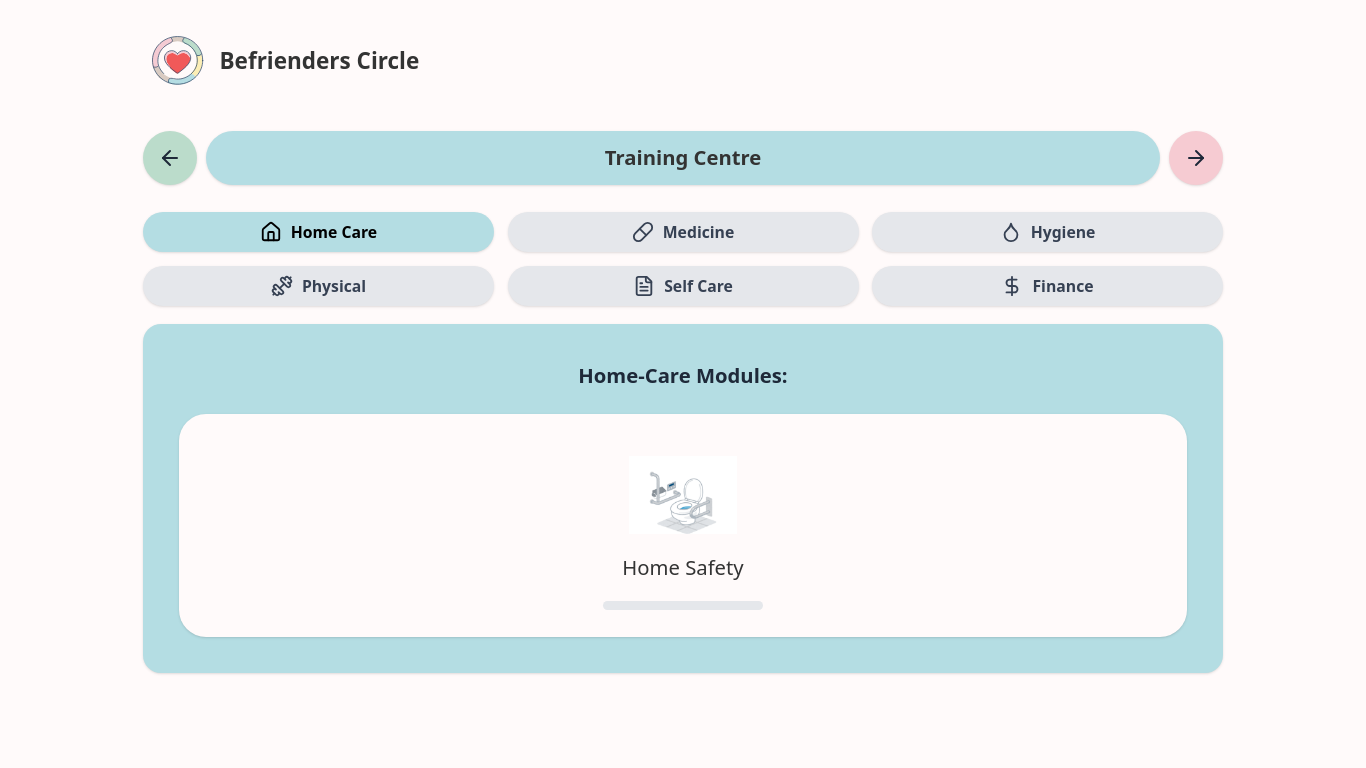
Test: <Training /> › User clicks a tag with no simulation created and sees warning message
The width and height of the screenshot is (1366, 768).
Click the button "Hygiene".
click(1048, 232)  # box [872,212,1223,252]
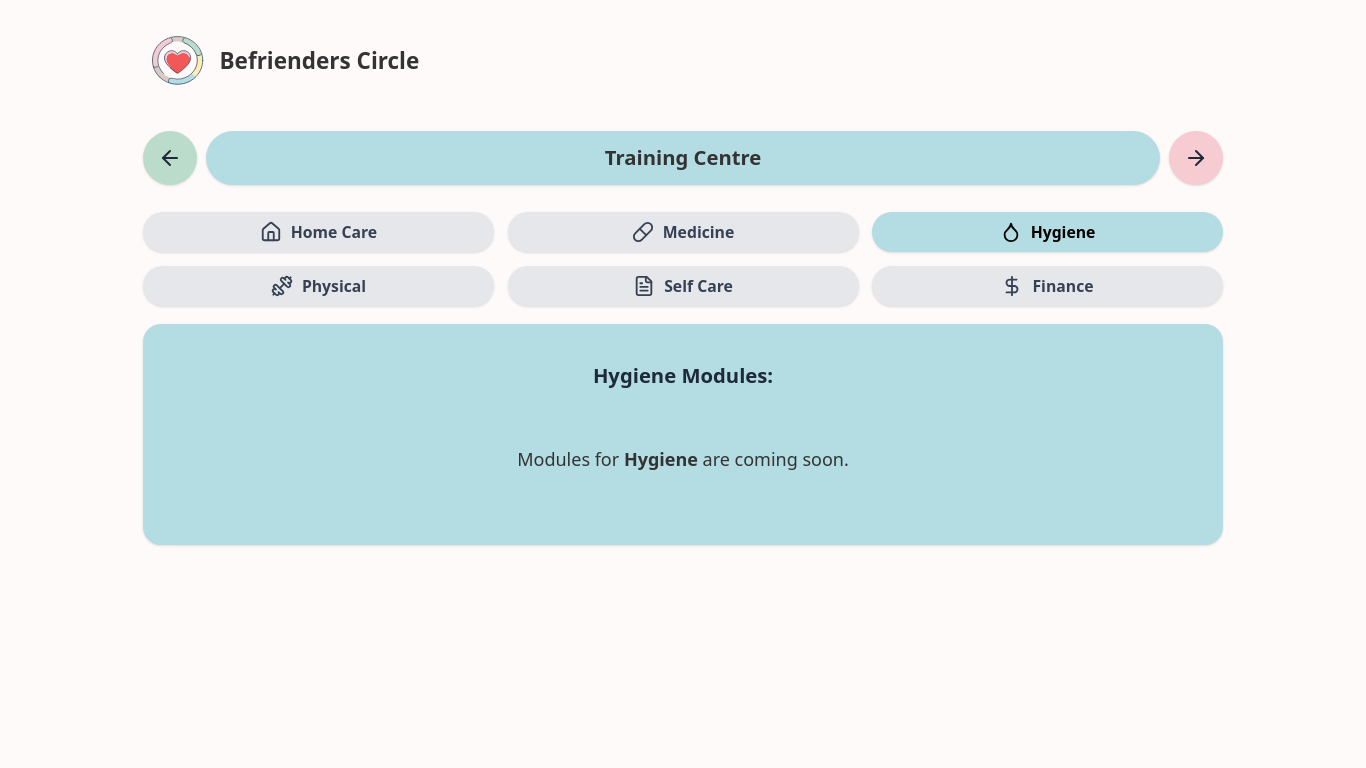
expect the text "Modules for Hygiene are coming soon." is shown: met, box [517,446,849,470]
